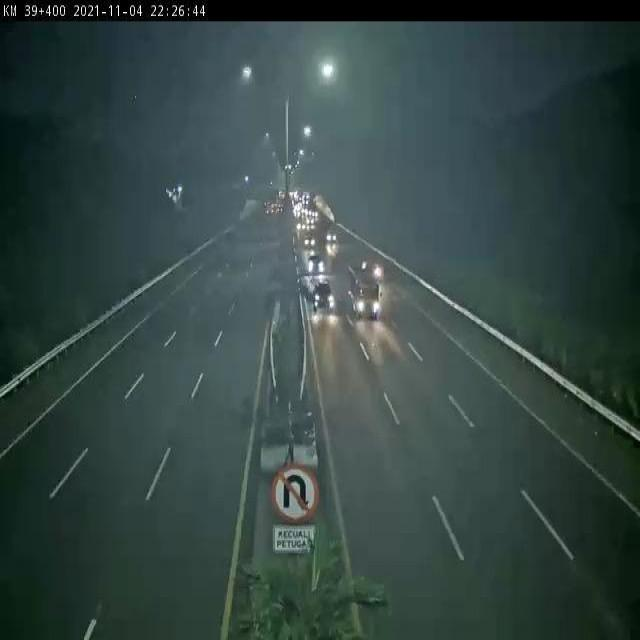car: (305, 270, 333, 310)
small truck: (344, 252, 381, 319)
